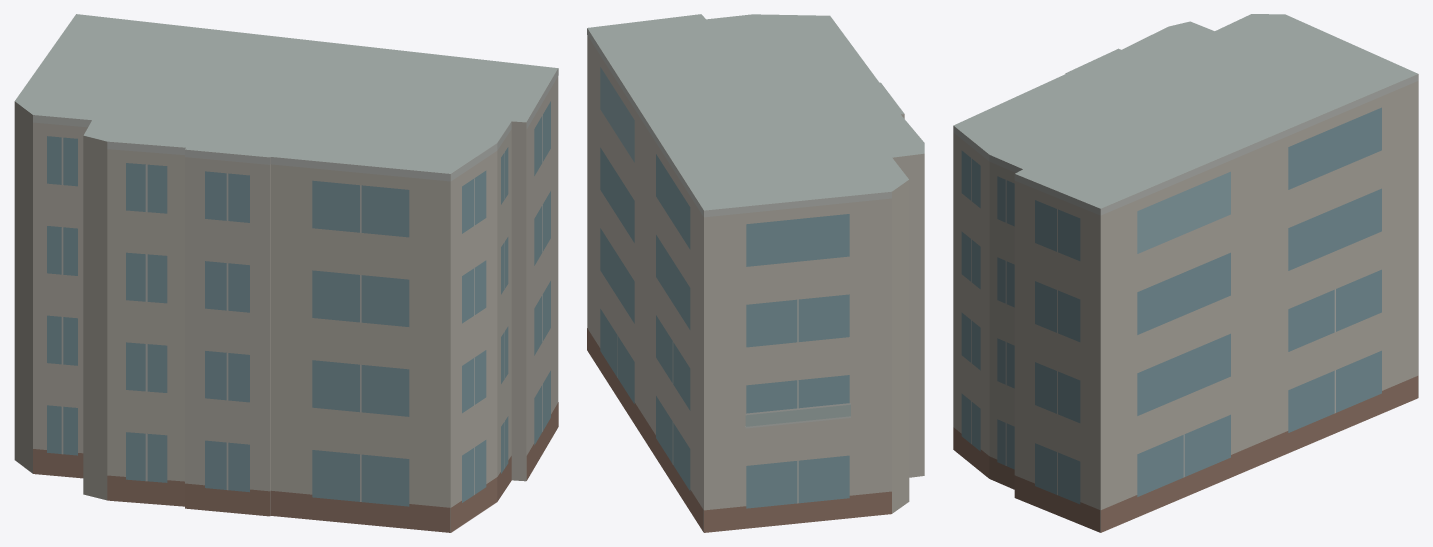
The model's file is survey-upis-32779146.glb.
3 renders of one model, left to right at view 1: azimuth 30°, elevation 25°; view 2: azimuth 150°, elevation 25°; view 3: azimuth 270°, elevation 25°, orthographic. The views are drawn at different scales.
Visible parts, largest first — view 1: survey-upis-32779146.tmp; view 2: survey-upis-32779146.tmp; view 3: survey-upis-32779146.tmp.
Part boxes in pixels (x1,y1,x2,y2): survey-upis-32779146.tmp: (14,14,558,532); survey-upis-32779146.tmp: (587,14,924,532); survey-upis-32779146.tmp: (953,14,1418,532).
Size of the model in its own units: 14.96 by 11.6 by 15.1.
